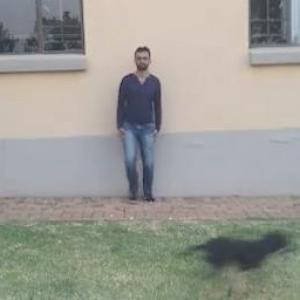follow: (115, 43, 162, 204)
